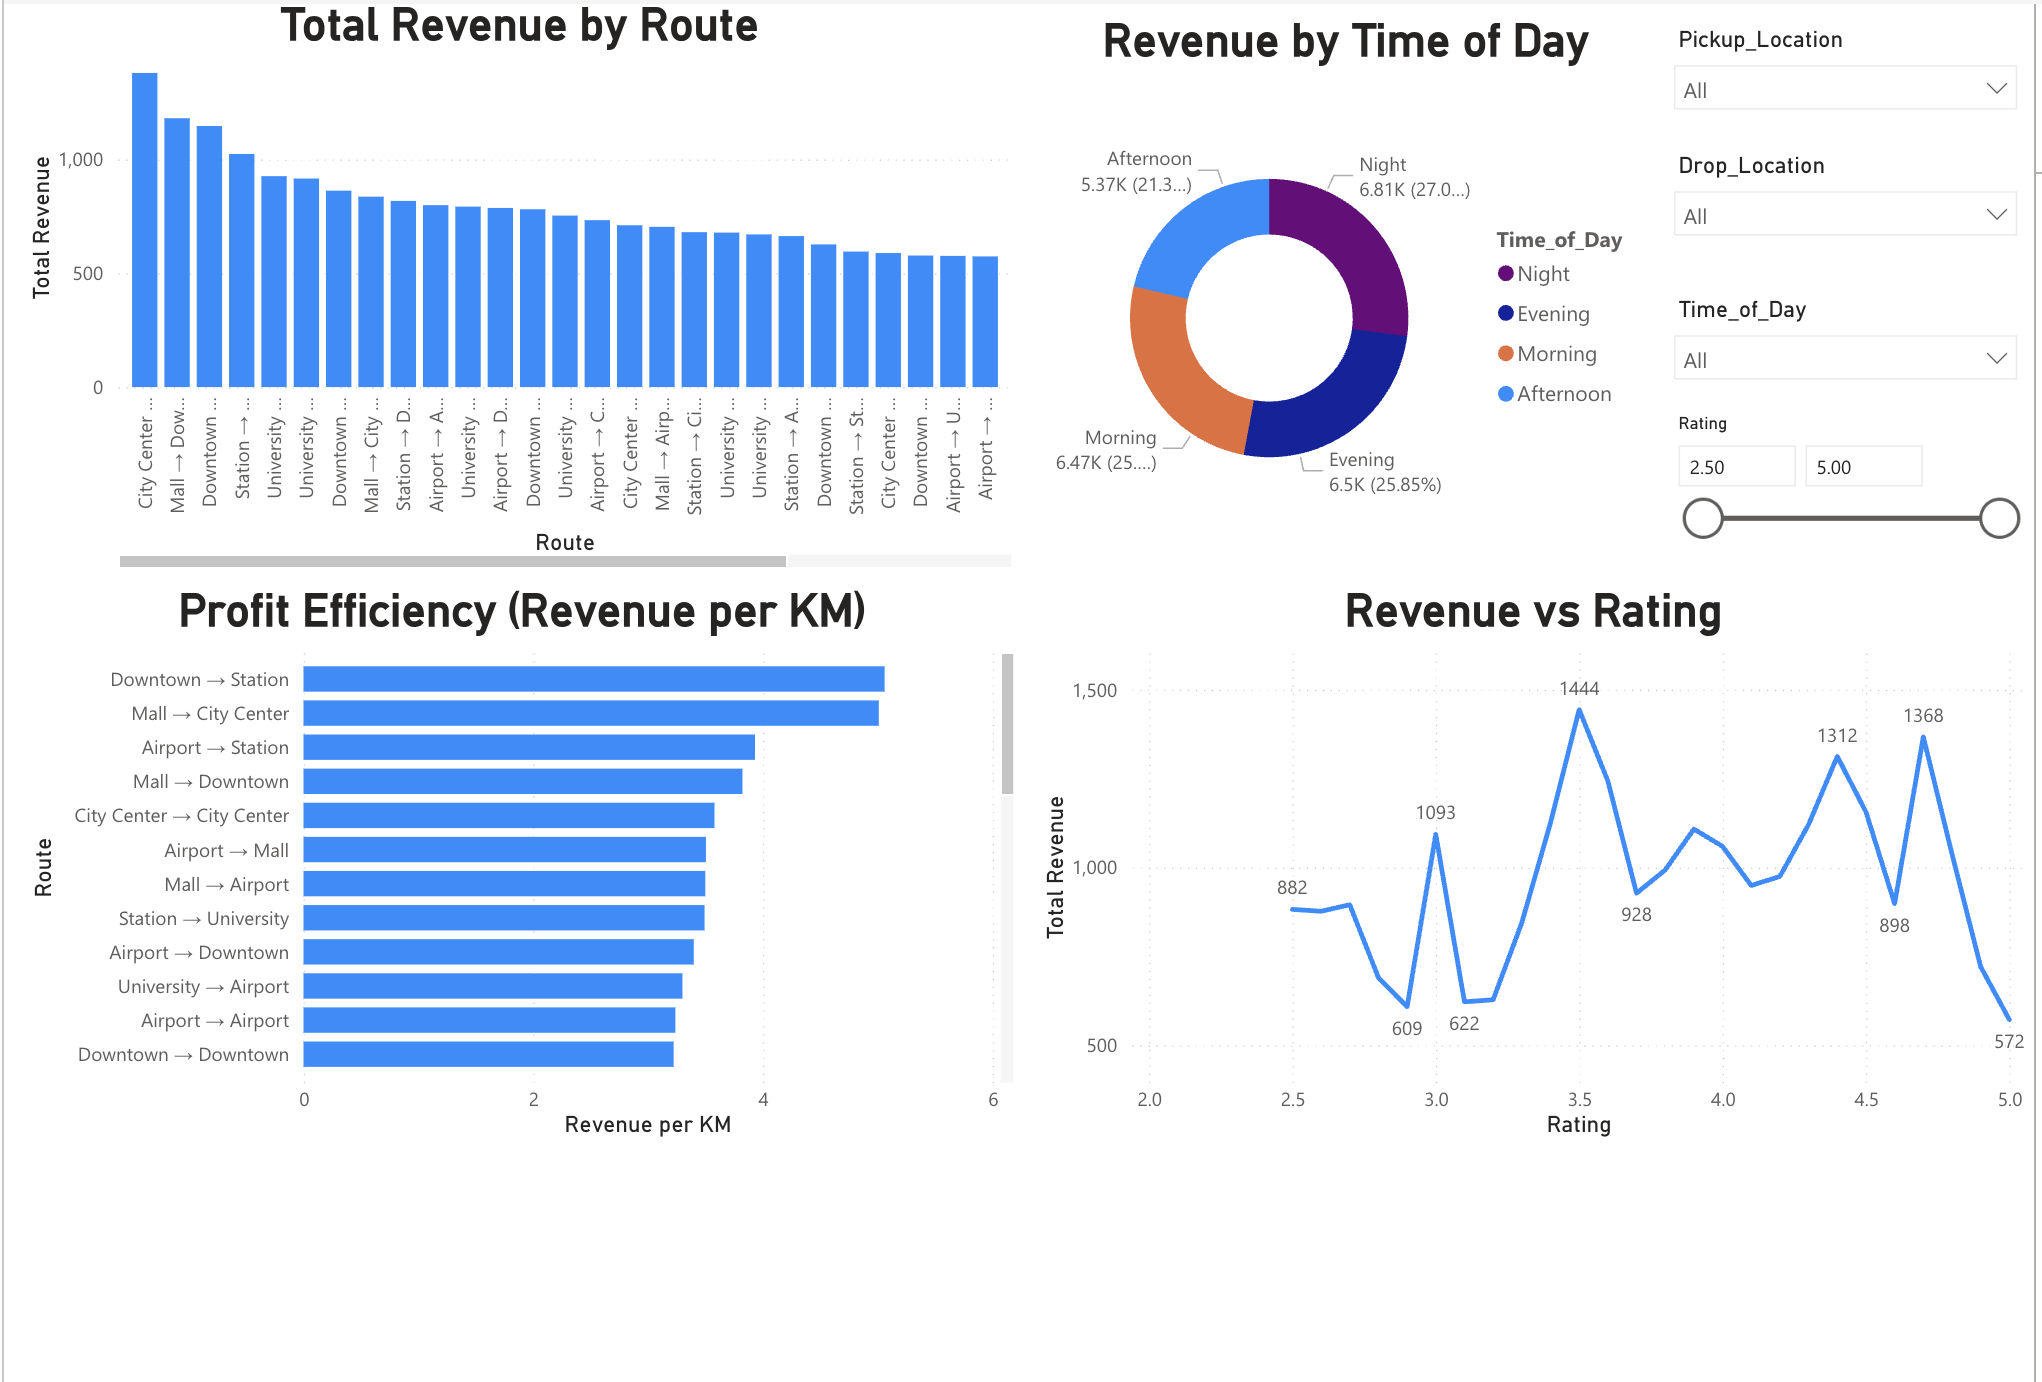

The page's visual inventory and layout, read from the dashboard file:
{"tool":"powerbi","page":{"name":"Profitability & Route Insight","canvas":[1280,720],"ordinal":4},"visuals":[{"type":"clusteredColumnChart","fields":{"Category":["RideSharing_Dataset.Route"],"Y":["RideSharing_Dataset.Total Revenue"]},"box":[10.7,0,630.1,360.1],"z":0},{"type":"donutChart","title":"Revenue by Time of Day","fields":{"Category":["RideSharing_Dataset.Time_of_Day"],"Y":["RideSharing_Dataset.Total Revenue"]},"box":[649.9,10.7,393.6,349.4],"z":1},{"type":"clusteredBarChart","title":"Profit Efficiency (Revenue per KM)","fields":{"Category":["RideSharing_Dataset.Route"],"Y":["RideSharing_Dataset.Revenue per KM"]},"box":[11,370,630,350],"z":2},{"type":"lineChart","title":"Revenue vs Rating","fields":{"Category":["RideSharing_Dataset.Rating"],"Y":["RideSharing_Dataset.Total Revenue"]},"box":[650,370,630,350],"z":3},{"type":"slicer","fields":{"Values":["RideSharing_Dataset.Pickup_Location"]},"box":[1043.5,10.7,236.5,79.3],"z":4},{"type":"slicer","fields":{"Values":["RideSharing_Dataset.Drop_Location"]},"box":[1043.5,90,236.5,90],"z":5},{"type":"slicer","fields":{"Values":["RideSharing_Dataset.Time_of_Day"]},"box":[1043.5,180,236.5,82.4],"z":6},{"type":"slicer","fields":{"Values":["RideSharing_Dataset.Rating"]},"box":[1043.5,254.8,236.5,116],"z":7}]}

Visuals, with their boxes on the page's 1280x720 design canvas (x1, y1, x2, y2). These are canvas units, not pixel positions in the 2042x1382 screenshot, which may show the page scaled, cropped or inside an application window:
clusteredColumnChart - RideSharing_Dataset.Route x RideSharing_Dataset.Total Revenue: 11,0,641,360
"Revenue by Time of Day" donutChart: 650,11,1044,360
"Profit Efficiency (Revenue per KM)" clusteredBarChart: 11,370,641,720
"Revenue vs Rating" lineChart: 650,370,1280,720
slicer - RideSharing_Dataset.Pickup_Location: 1044,11,1280,90
slicer - RideSharing_Dataset.Drop_Location: 1044,90,1280,180
slicer - RideSharing_Dataset.Time_of_Day: 1044,180,1280,262
slicer - RideSharing_Dataset.Rating: 1044,255,1280,371
